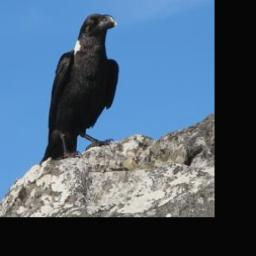Crow: (38, 10, 121, 167)
